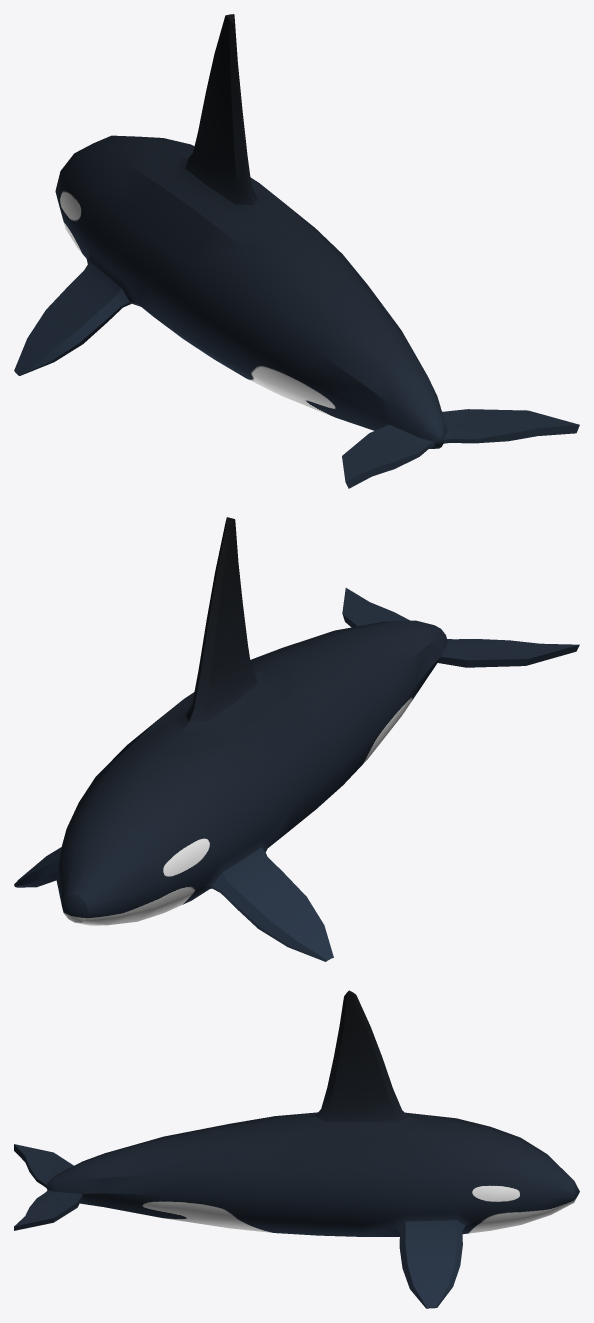
File: orca.fbx
3 views of the same model, one above another, from view 1: azimuth 30°, elevation 25°; view 2: azimuth 150°, elevation 25°; view 3: azimuth 270°, elevation 25° (orthographic). The views are drawn at different scales.
Visible parts, largest first — view 1: orca; view 2: orca; view 3: orca.
Part boxes in pixels (x1,y1,x2,y2): orca: [14, 14, 579, 488]; orca: [14, 517, 579, 961]; orca: [14, 990, 579, 1308].
Size of the model in its own units: 9.92 by 10.89 by 21.32.
